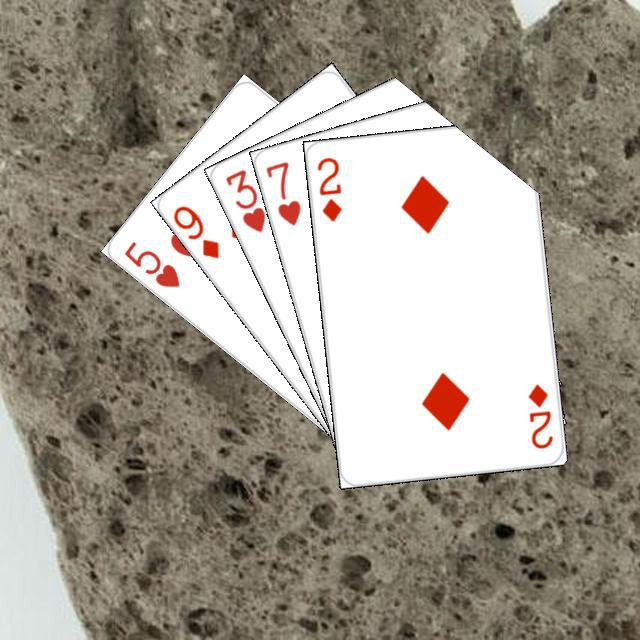2d: (312, 152, 344, 224), (523, 379, 555, 451)
3h: (220, 164, 267, 234)
5h: (119, 236, 182, 290)
7h: (260, 156, 303, 228)
9d: (168, 200, 221, 261)
